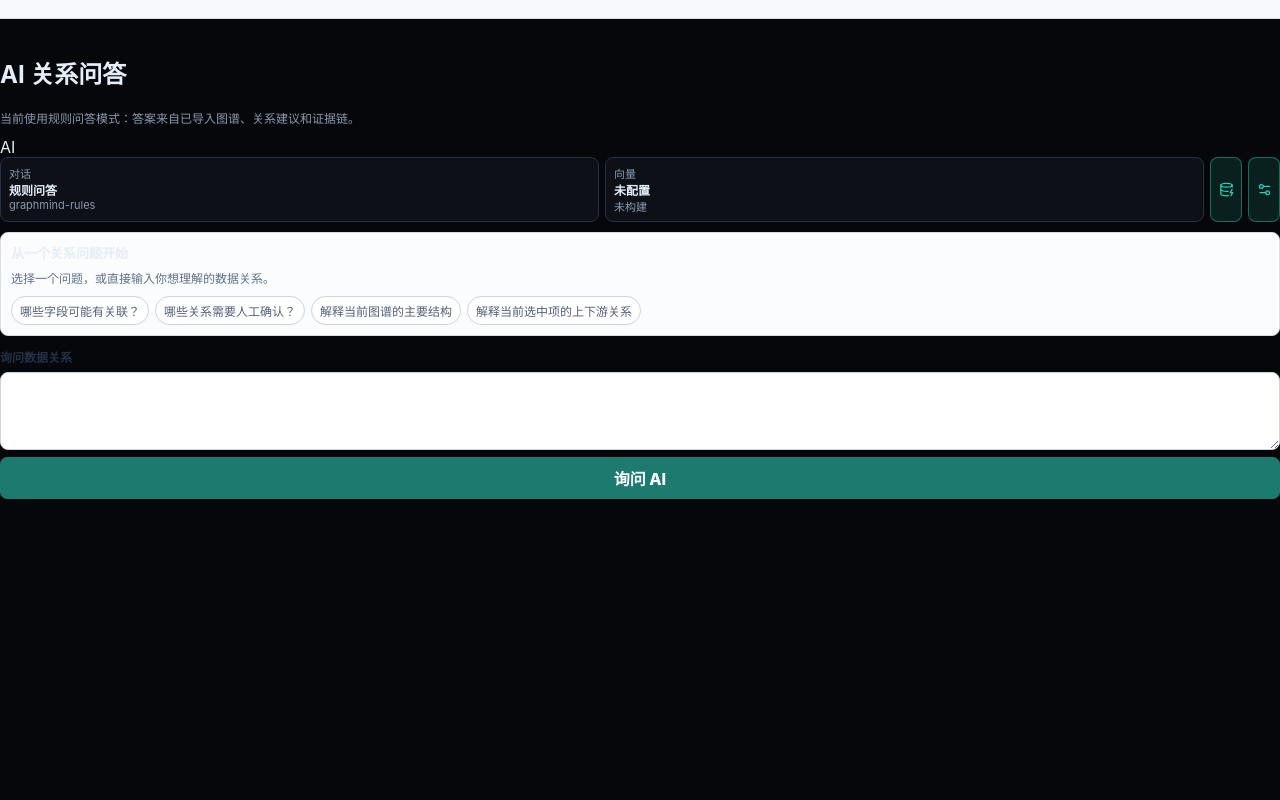
it: ChatPanel › opens settings with default retention values for legacy settings
The width and height of the screenshot is (1280, 800).
Click the button named "AI 和向量设置": (1264,190) x1=1248 y1=157 x2=1279 y2=222
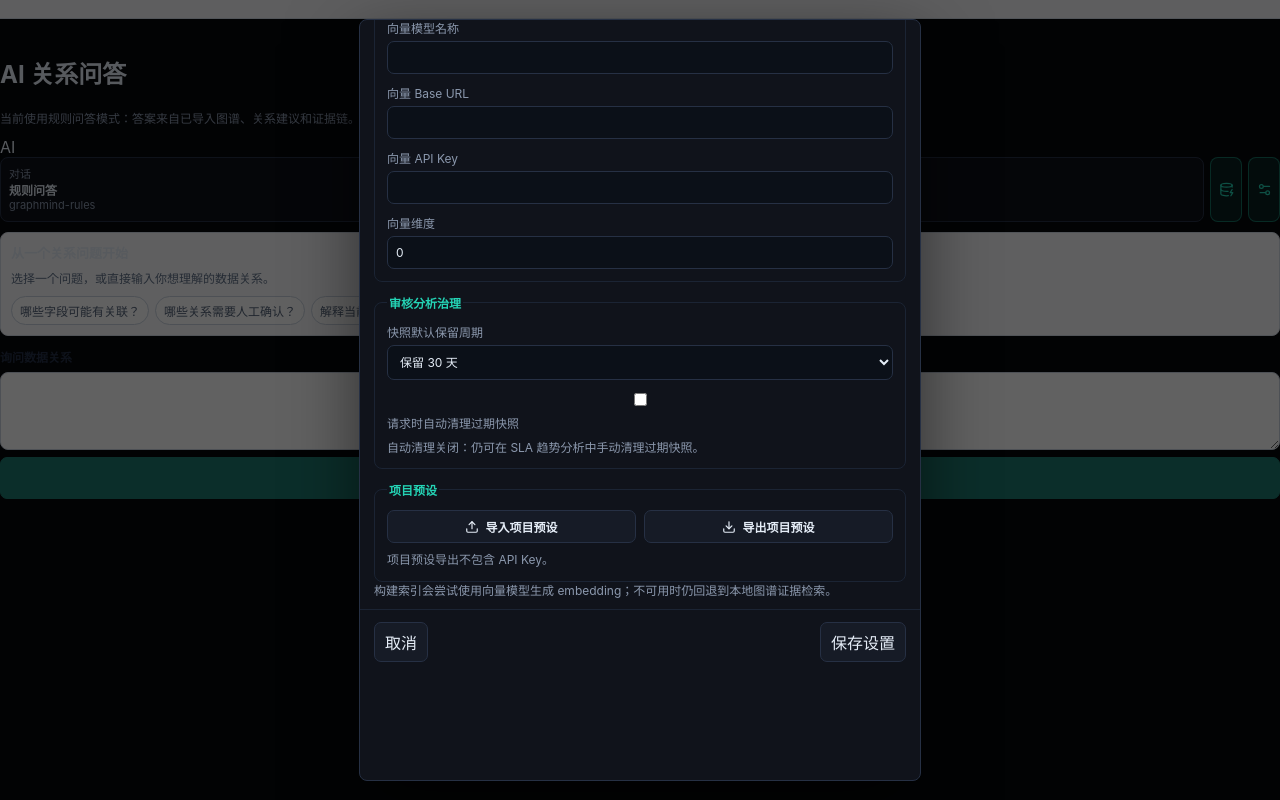
Expected: the dropdown labelled "快照默认保留周期" shows "保留 30 天", x1=387 y1=345 x2=893 y2=380
Expected: the checkbox labelled "请求时自动清理过期快照" is not checked, x1=391 y1=393 x2=890 y2=406
